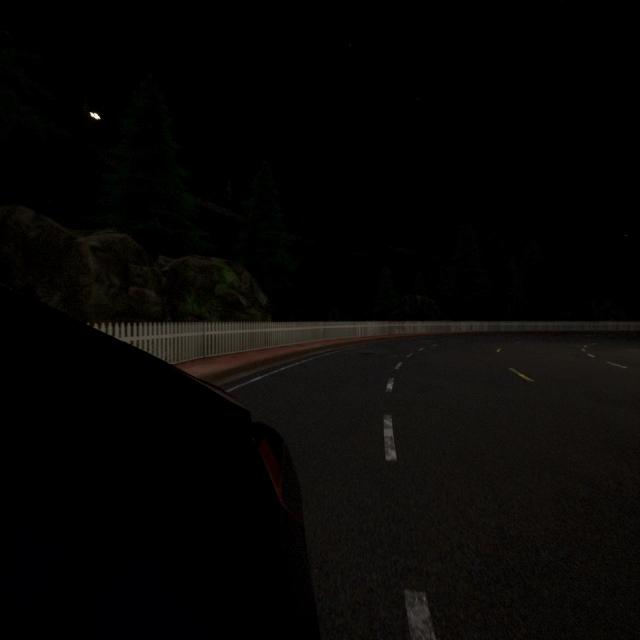Vehicle: (0, 284, 318, 637)
